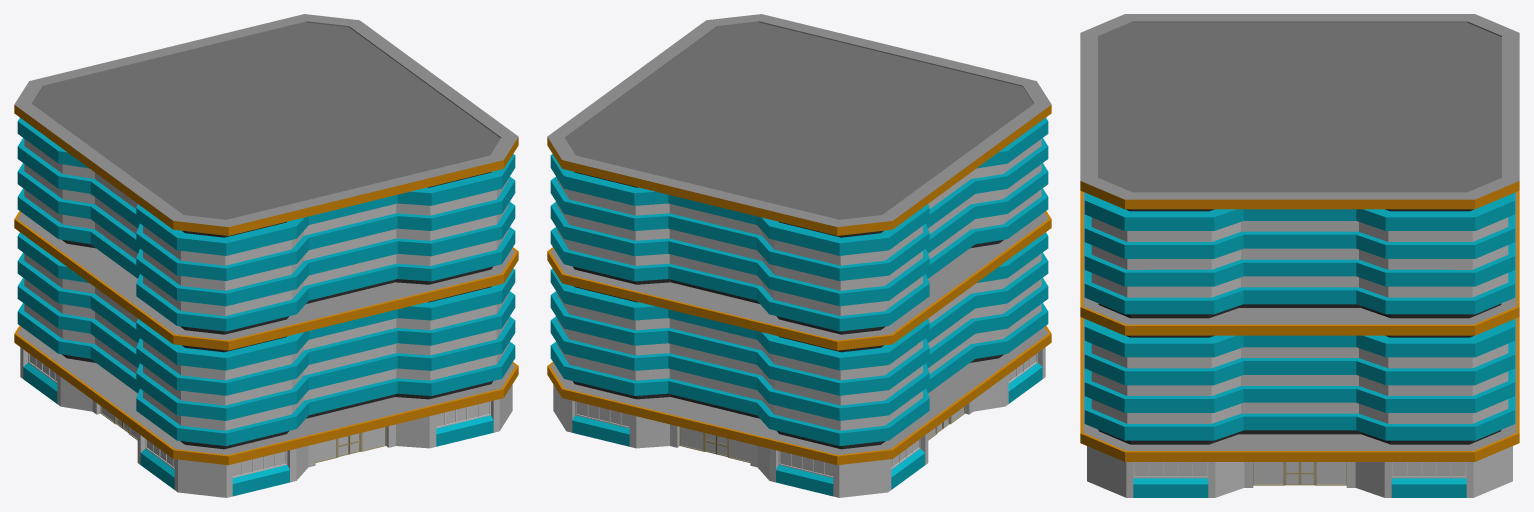
3 renders of one model, left to right at view 1: azimuth 30°, elevation 25°; view 2: azimuth 150°, elevation 25°; view 3: azimuth 270°, elevation 25°, orthographic. The views are drawn at different scales.
Visible parts, largest first — view 1: QD-04; view 2: QD-04; view 3: QD-04.
Boxes of the visible parts, <box> form: QD-04: <box>14,14,518,497</box>; QD-04: <box>547,14,1051,497</box>; QD-04: <box>1080,14,1519,497</box>.
Size of what is drawn, in the model's own units: 41 by 31 by 41.
